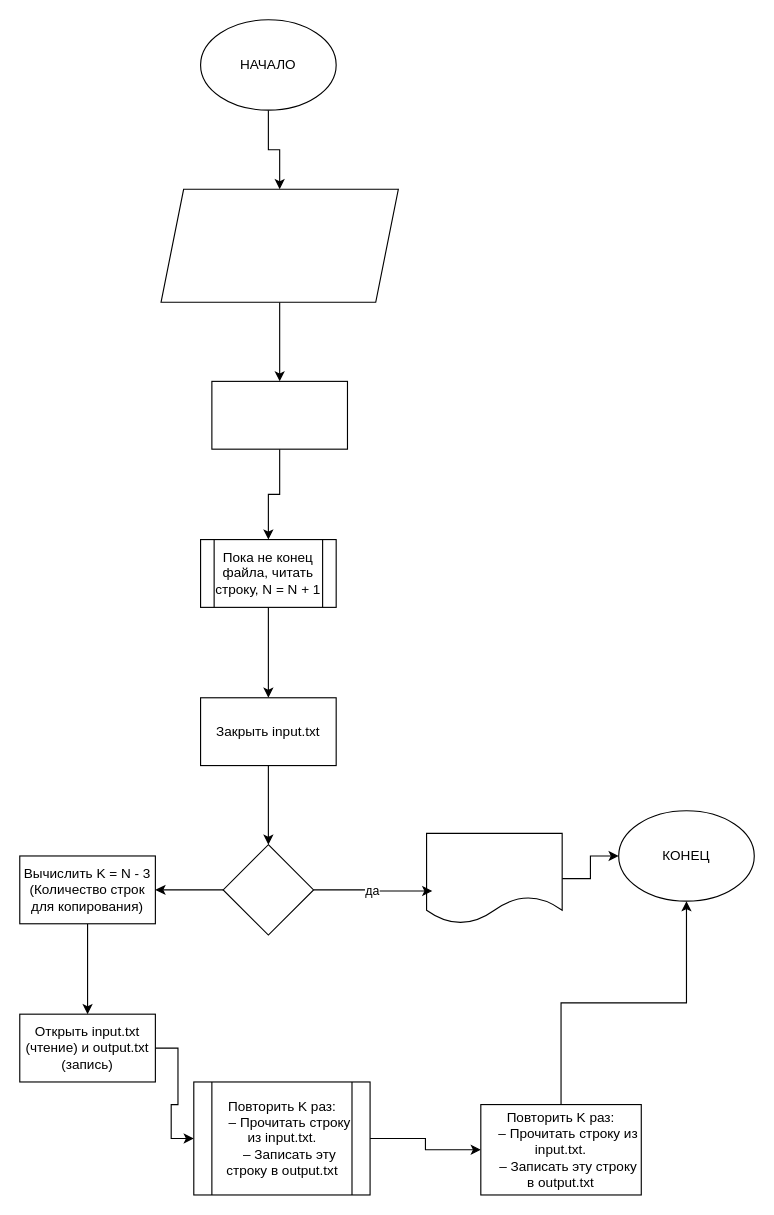
Image size: 774x1215. Some labels were removed from this diagram. Each missing label, with the centre of its shape:
N ≤ 3: point 268,889
вывод ошибки: point 493,878
Инициализация (Определить имена файлов: input.txt, output.txt): point 279,414
Открыть input.txt для чтения: point 279,245
